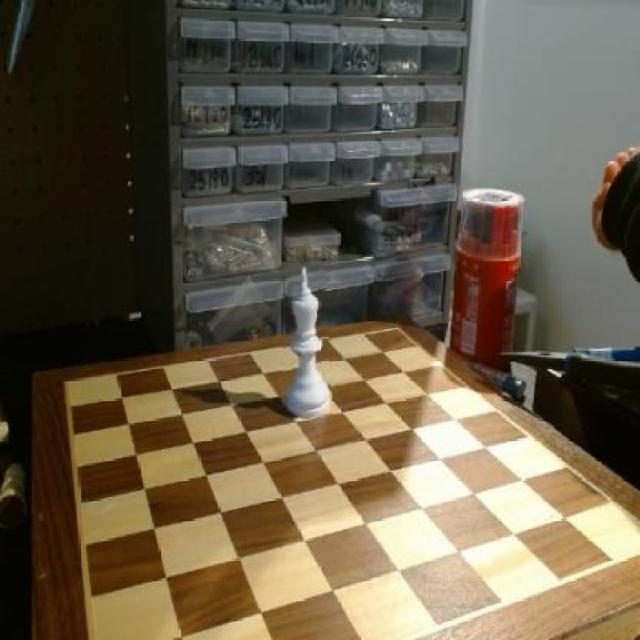white-bishop: (280, 266, 331, 419)
